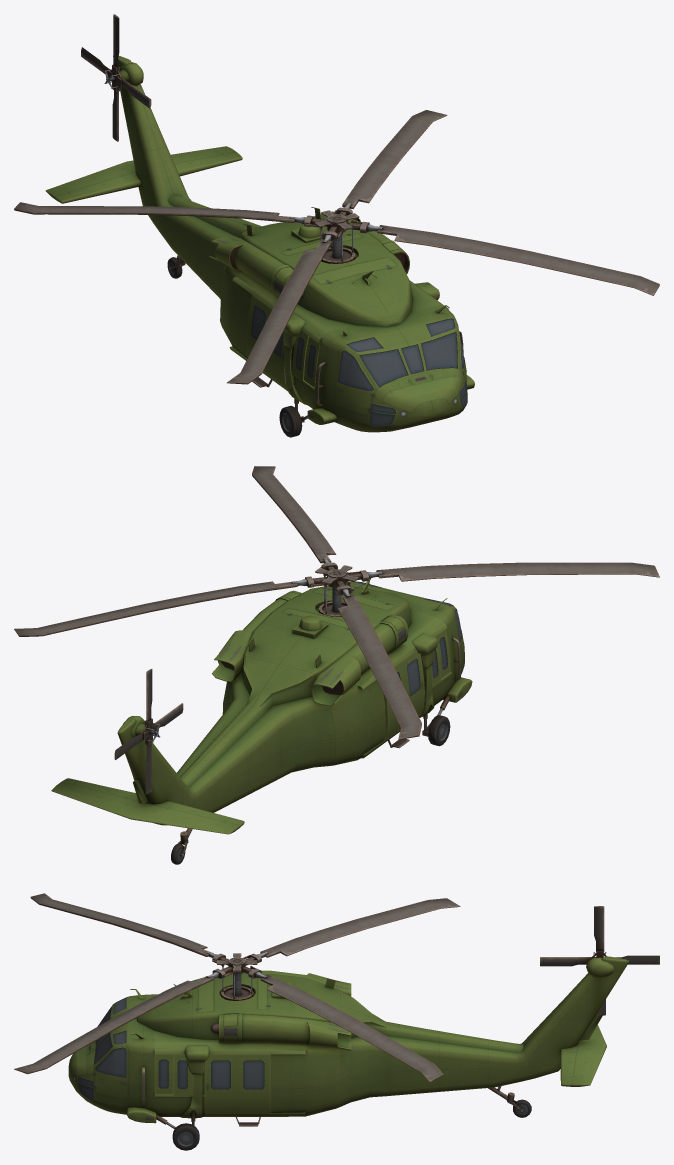
File: MilitaryHelicopter01.FBX
The picture shows the model from 3 angles, top to bottom: view 1: azimuth 30°, elevation 25°; view 2: azimuth 150°, elevation 25°; view 3: azimuth 270°, elevation 25°; orthographic projection. The views are drawn at different scales.
Parts seen in each view (by area): view 1: MilitaryHelicopter01; view 2: MilitaryHelicopter01; view 3: MilitaryHelicopter01.
Boxes of the visible parts, <box> form: MilitaryHelicopter01: <box>14,14,659,437</box>; MilitaryHelicopter01: <box>14,466,659,864</box>; MilitaryHelicopter01: <box>14,893,659,1150</box>.
Size of what is drawn, in the model's own units: 13.16 by 6.66 by 19.05.
